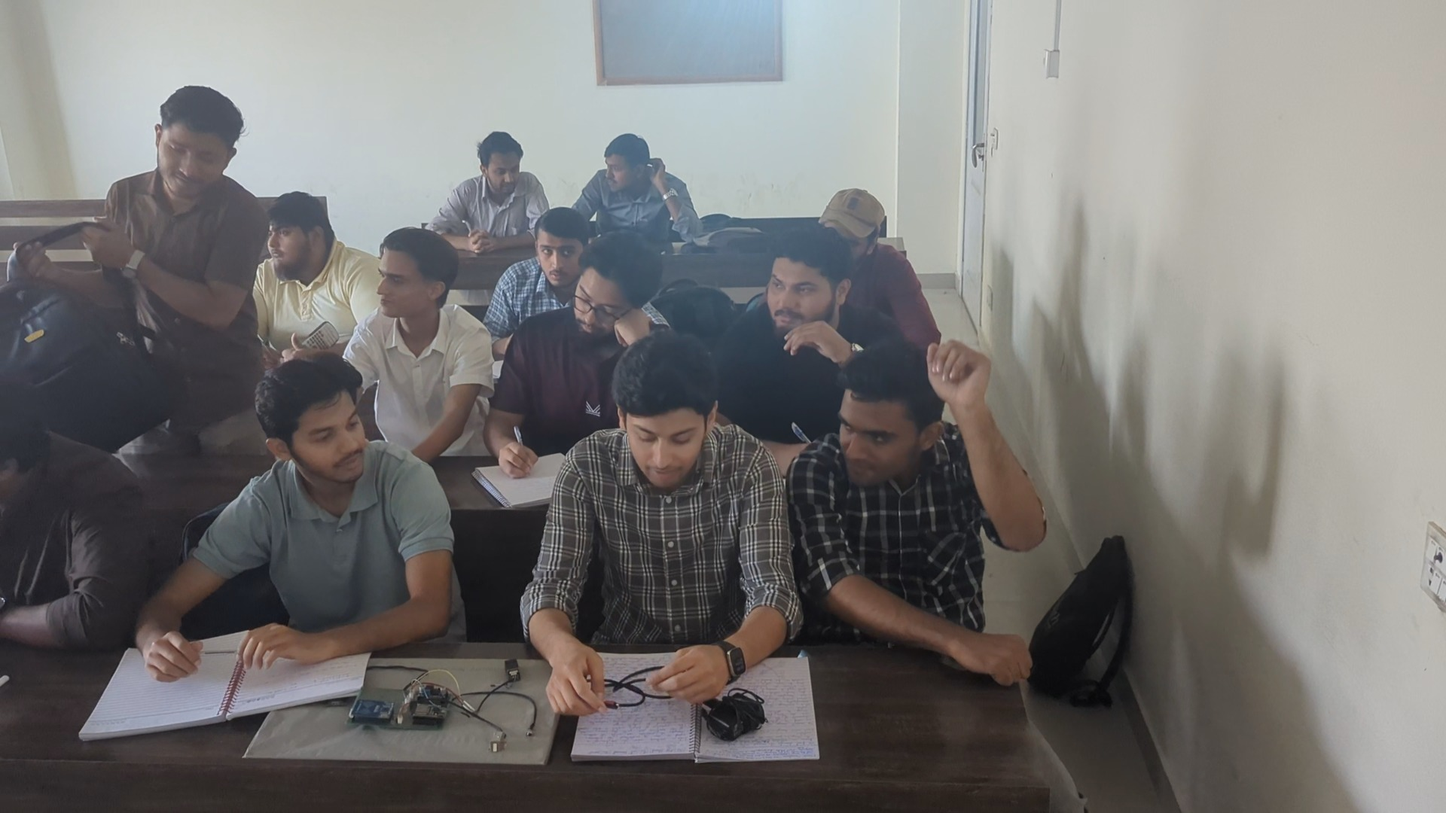handrise: (792, 338, 1039, 680)
look_forward: (354, 224, 499, 452), (735, 223, 906, 399), (246, 182, 378, 352)
read: (150, 355, 457, 671), (516, 334, 806, 648)
stand: (16, 83, 272, 454)
turn_head: (568, 133, 709, 252), (426, 129, 541, 260), (482, 203, 604, 314)
write: (493, 234, 636, 480)
